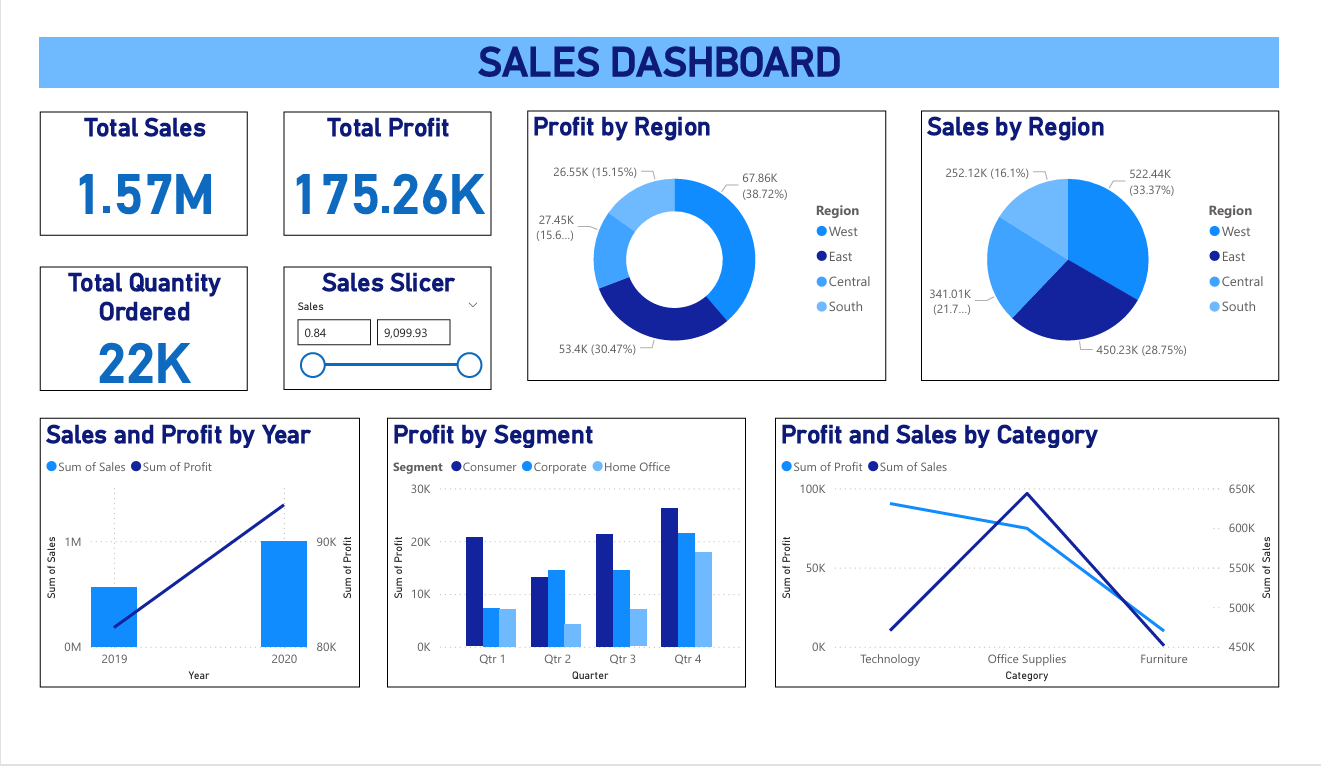

Layout of this report page (visuals, bound fields, positions):
{"tool":"powerbi","page":{"name":"Overall Sales","canvas":[1280,720],"ordinal":0},"visuals":[{"type":"textbox","title":"SALES DASHBOARD","box":[15,15,1246.2,52.5],"z":0},{"type":"card","title":"Total Sales","fields":{"Values":["Sum(Sheet1.Sales)"]},"box":[15,88.8,208.8,125],"z":1000},{"type":"card","title":"Total Profit","fields":{"Values":["Sum(Sheet1.Profit)"]},"box":[260,88.8,208.8,125],"z":2000},{"type":"card","title":"Total Quantity Ordered","fields":{"Values":["Sum(Sheet1.Quantity)"]},"box":[15,245,208.8,125],"z":3000},{"type":"lineStackedColumnComboChart","title":"Sales and Profit by Year","fields":{"Y":["Sum(Sheet1.Sales)"],"Category":["Sheet1.Order Date.Variation.Date Hierarchy.Year","Sheet1.Order Date.Variation.Date Hierarchy.Quarter","Sheet1.Order Date.Variation.Date Hierarchy.Month","Sheet1.Order Date.Variation.Date Hierarchy.Day"],"Y2":["Sum(Sheet1.Profit)"]},"box":[14.9,396.8,322.2,271.2],"z":4000},{"type":"pieChart","title":"Sales by Region","fields":{"Category":["Sheet1.Region"],"Y":["Sum(Sheet1.Sales)"]},"box":[900.6,88.3,360.7,271.2],"z":5000},{"type":"donutChart","title":"Profit by Region","fields":{"Category":["Sheet1.Region"],"Y":["Sum(Sheet1.Profit)"]},"box":[505,88.3,360.7,271.2],"z":6000},{"type":"clusteredColumnChart","title":"Profit by Segment","fields":{"Y":["Sum(Sheet1.Profit)"],"Series":["Sheet1.Segment"],"Category":["Sheet1.Order Date.Variation.Date Hierarchy.Year","Sheet1.Order Date.Variation.Date Hierarchy.Quarter","Sheet1.Order Date.Variation.Date Hierarchy.Month","Sheet1.Order Date.Variation.Date Hierarchy.Day"]},"box":[364.5,396.8,360.7,271.2],"z":7000},{"type":"lineChart","title":"Profit and Sales by Category","fields":{"Category":["Sheet1.Category"],"Y":["Sum(Sheet1.Profit)"],"Y2":["Sum(Sheet1.Sales)"]},"box":[753.8,396.8,507.5,271.2],"z":8000},{"type":"slicer","title":"Sales Slicer","fields":{"Values":["Sheet1.Sales"]},"box":[260,245.1,209,124.4],"z":9000}]}

Visuals, with their boxes in screenshot pixels (x1, y1, x2, y2), scaled from the page's 1280x720 canvas onto the 1321x766 screenshot:
"SALES DASHBOARD" textbox: x1=15 y1=16 x2=1302 y2=72
"Total Sales" card: x1=15 y1=94 x2=231 y2=227
"Total Profit" card: x1=268 y1=94 x2=484 y2=227
"Total Quantity Ordered" card: x1=15 y1=261 x2=231 y2=394
"Sales and Profit by Year" lineStackedColumnComboChart: x1=15 y1=422 x2=348 y2=711
"Sales by Region" pieChart: x1=929 y1=94 x2=1302 y2=382
"Profit by Region" donutChart: x1=521 y1=94 x2=893 y2=382
"Profit by Segment" clusteredColumnChart: x1=376 y1=422 x2=748 y2=711
"Profit and Sales by Category" lineChart: x1=778 y1=422 x2=1302 y2=711
"Sales Slicer" slicer: x1=268 y1=261 x2=484 y2=393
